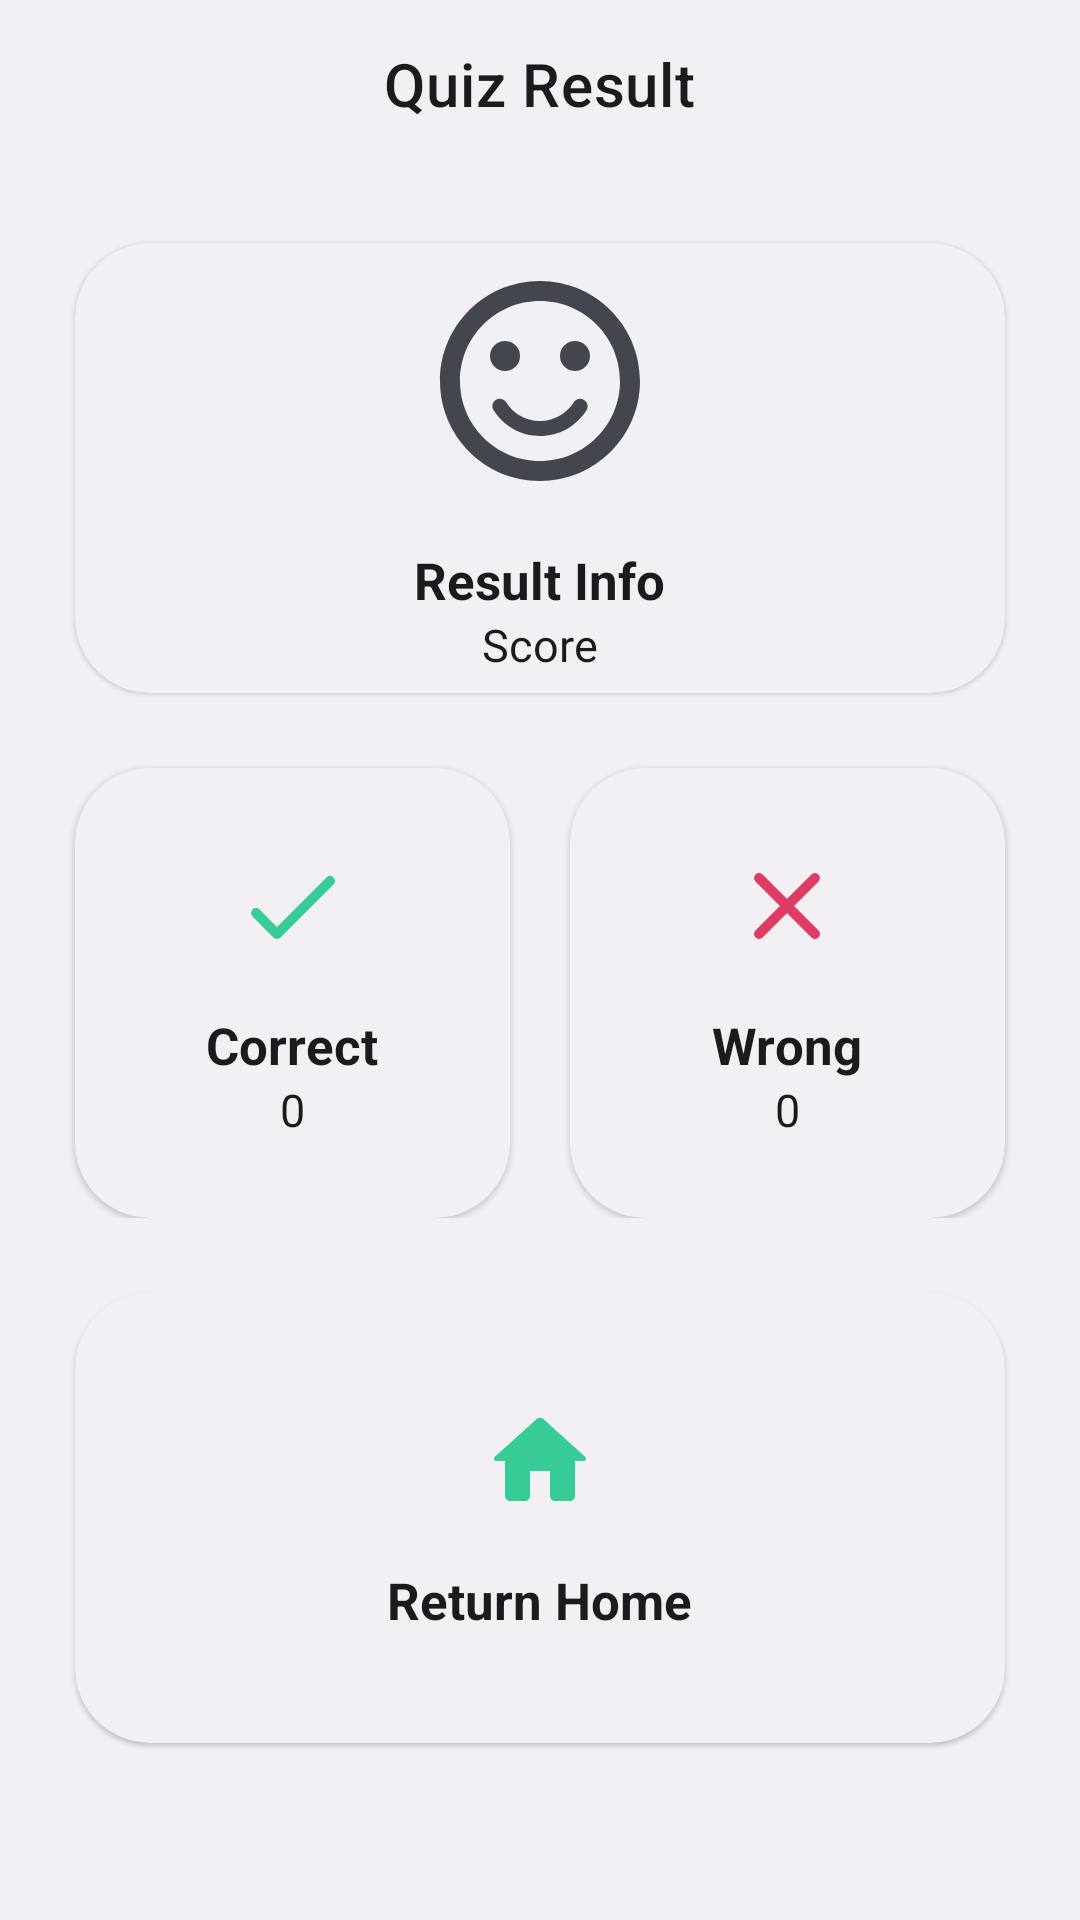

Where icons sit on this 1080px x 1920px app screen, as (x1, y1, x2, y2):
smile: (440, 281, 640, 481)
